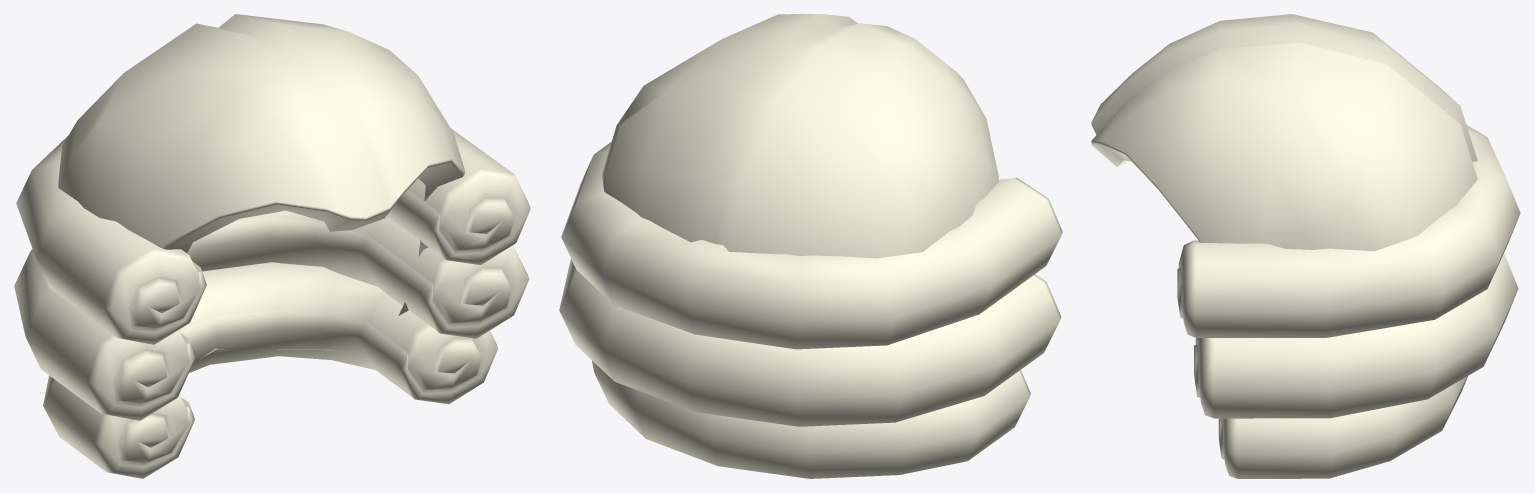
The model's file is Hat_049.glb.
3 views of the same model, side by side, from view 1: azimuth 30°, elevation 25°; view 2: azimuth 150°, elevation 25°; view 3: azimuth 270°, elevation 25° (orthographic). The views are drawn at different scales.
Parts seen in each view (by area): view 1: Hat_049; view 2: Hat_049; view 3: Hat_049.
Boxes of the visible parts, x1,y1,x2,y2 form: Hat_049: (14,14,530,478); Hat_049: (559,14,1062,478); Hat_049: (1091,14,1520,478).
Bounding box in the file's own units: 0.5507 × 0.4614 × 0.4845.
Materials: 1 (1 with a texture image).
